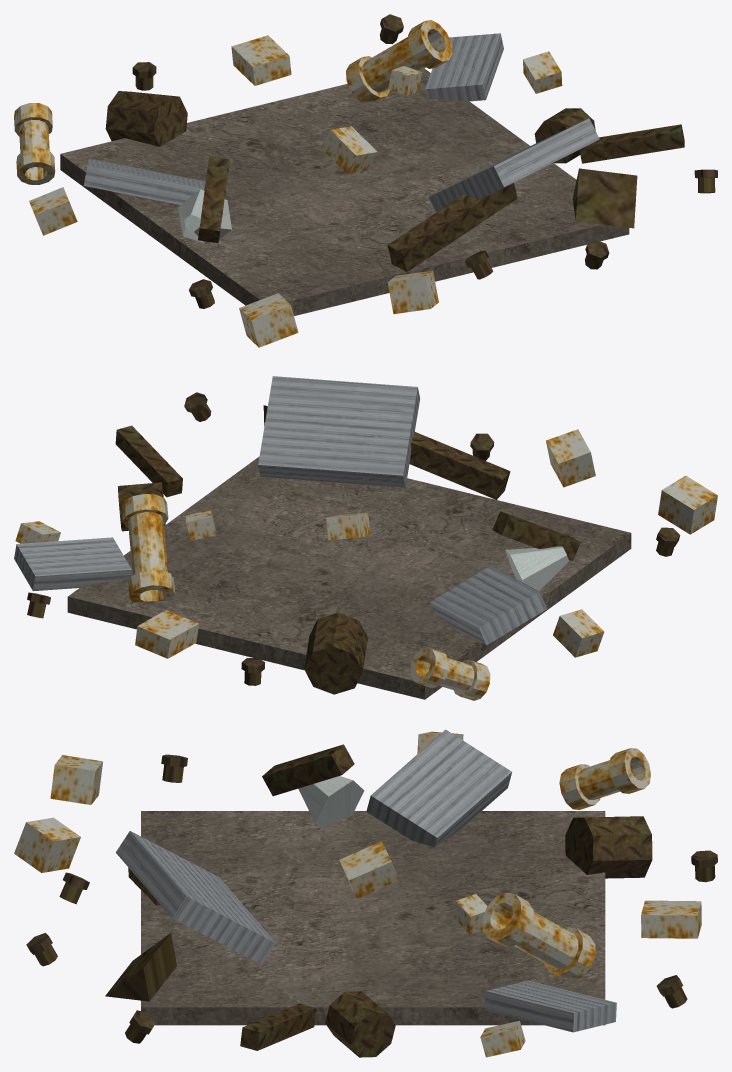
The model's file is rubble.glb.
3 views of the same model, one above another, from view 1: azimuth 30°, elevation 25°; view 2: azimuth 150°, elevation 25°; view 3: azimuth 270°, elevation 25° (orthographic). The views are drawn at different scales.
Parts seen in each view (by area): view 1: DebrisBase, BrokenPanel_0, Beam_0, BentPipe_0, BrokenPanel_2, CylFrag_0, WedgeFrag, BrokenPanel_1, BentPipe_1, Beam_1, Chunk_4, Chunk_1 (+12 smaller); view 2: DebrisBase, BrokenPanel_0, BrokenPanel_1, BrokenPanel_2, BentPipe_0, CylFrag_0, Beam_0, BentPipe_1, Chunk_4, Chunk_1, Beam_1, Chunk_2 (+10 smaller); view 3: DebrisBase, BrokenPanel_1, BrokenPanel_0, BentPipe_0, CylFrag_0, BrokenPanel_2, BentPipe_1, CylFrag_1, Chunk_2, Beam_2, WedgeFrag, Chunk_1 (+12 smaller).
Boxes of the visible parts, x1=… form: DebrisBase: x1=60, y1=68, x2=629, y2=315; BrokenPanel_0: x1=428, y1=118, x2=599, y2=212; Beam_0: x1=387, y1=183, x2=517, y2=271; BentPipe_0: x1=346, y1=20, x2=452, y2=101; BrokenPanel_2: x1=425, y1=33, x2=503, y2=101; CylFrag_0: x1=105, y1=91, x2=187, y2=146; WedgeFrag: x1=572, y1=168, x2=637, y2=228; BrokenPanel_1: x1=83, y1=158, x2=205, y2=204; BentPipe_1: x1=14, y1=103, x2=55, y2=184; Beam_1: x1=579, y1=124, x2=684, y2=163; Chunk_4: x1=239, y1=293, x2=298, y2=347; Chunk_1: x1=231, y1=35, x2=291, y2=85; DebrisBase: x1=67, y1=456, x2=631, y2=699; BrokenPanel_0: x1=258, y1=376, x2=420, y2=487; BrokenPanel_1: x1=430, y1=565, x2=547, y2=645; BrokenPanel_2: x1=14, y1=537, x2=131, y2=591; BentPipe_0: x1=121, y1=494, x2=175, y2=602; CylFrag_0: x1=304, y1=612, x2=367, y2=694; Beam_0: x1=409, y1=432, x2=510, y2=499; BentPipe_1: x1=410, y1=647, x2=490, y2=700; Chunk_4: x1=658, y1=475, x2=717, y2=534; Chunk_1: x1=135, y1=610, x2=198, y2=658; Beam_1: x1=115, y1=425, x2=182, y2=497; Chunk_2: x1=546, y1=429, x2=595, y2=487; DebrisBase: x1=141, y1=811, x2=605, y2=1025; BrokenPanel_1: x1=366, y1=729, x2=511, y2=847; BrokenPanel_0: x1=116, y1=831, x2=275, y2=964; BentPipe_0: x1=482, y1=892, x2=595, y2=977; CylFrag_0: x1=565, y1=816, x2=652, y2=878; BrokenPanel_2: x1=484, y1=980, x2=616, y2=1032; BentPipe_1: x1=559, y1=748, x2=650, y2=809; CylFrag_1: x1=325, y1=991, x2=395, y2=1057; Chunk_2: x1=14, y1=817, x2=80, y2=872; Beam_2: x1=262, y1=744, x2=354, y2=796; WedgeFrag: x1=105, y1=933, x2=176, y2=1001; Chunk_1: x1=641, y1=900, x2=701, y2=938.
Bounding box in the file's own units: 1.11 × 0.206 × 1.06.
26 materials, 26 textured.
